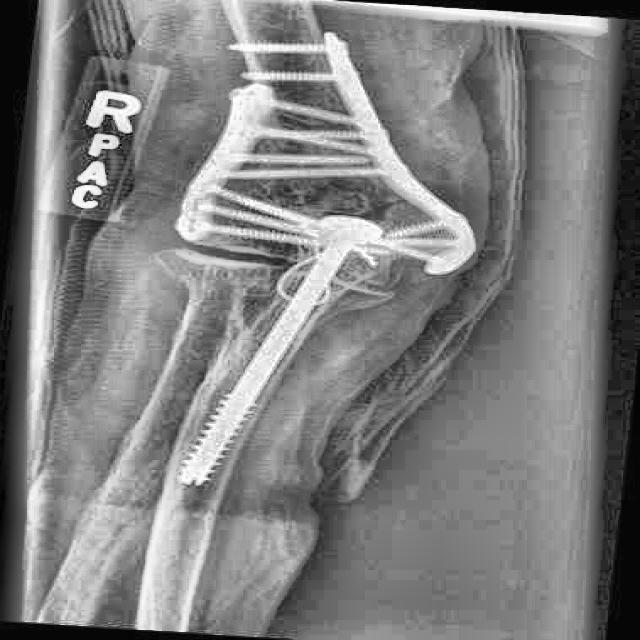elbow positive: (338, 173, 436, 228)
